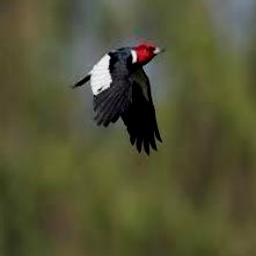Woodpecker: (70, 42, 166, 154)
